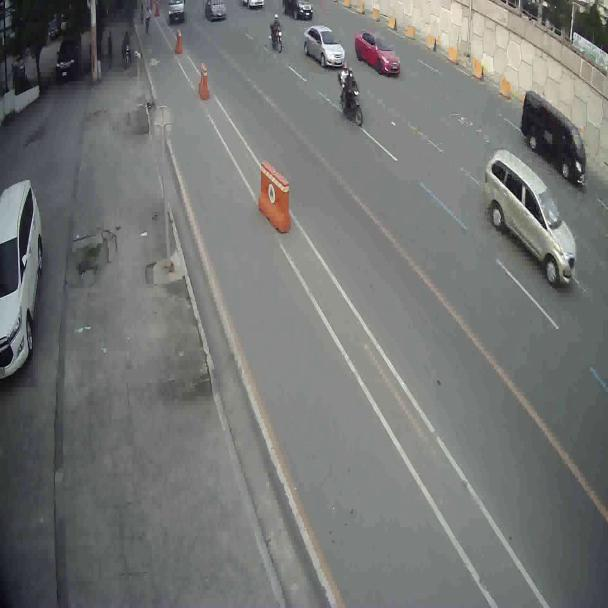motorcyclist: (337, 66, 362, 122), (268, 16, 285, 52)
vehicle: (480, 146, 578, 291), (0, 171, 43, 382), (517, 84, 594, 192), (354, 31, 400, 72), (306, 22, 345, 68), (286, 0, 314, 22)
